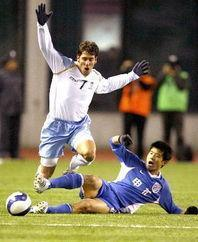Fall-Detected: (29, 127, 193, 214)
